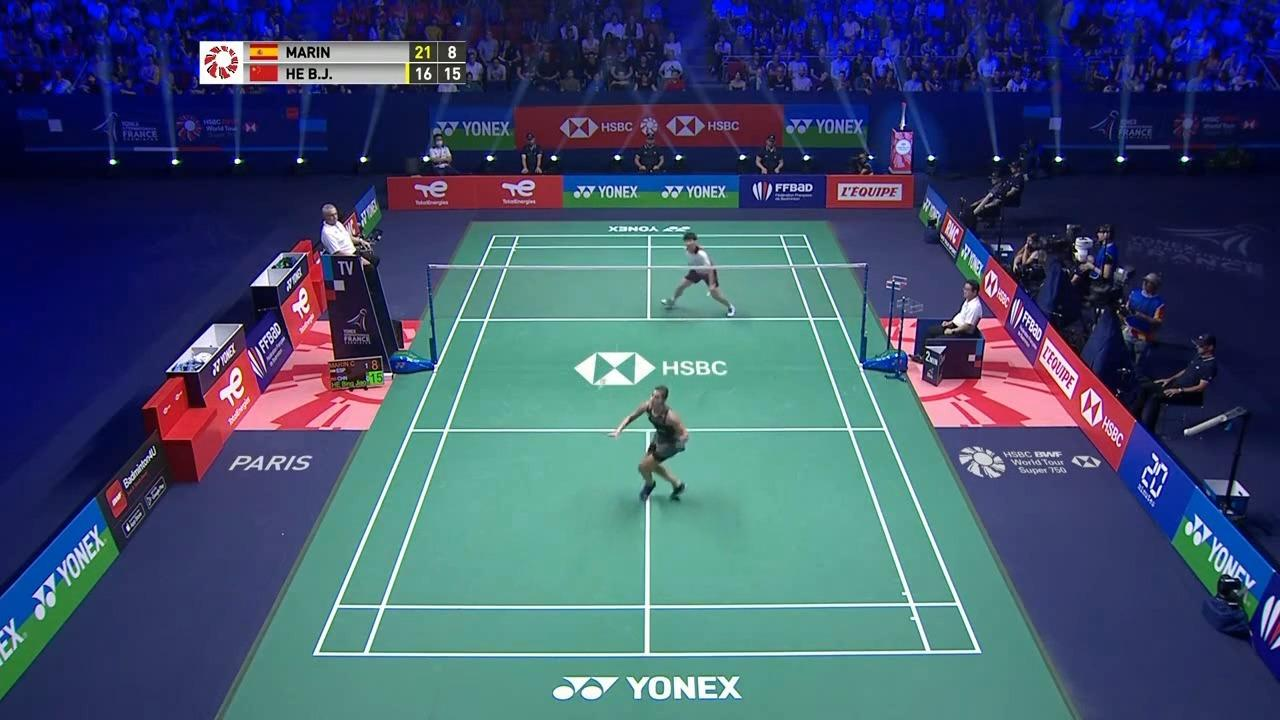shuttle: (597, 377, 608, 391)
